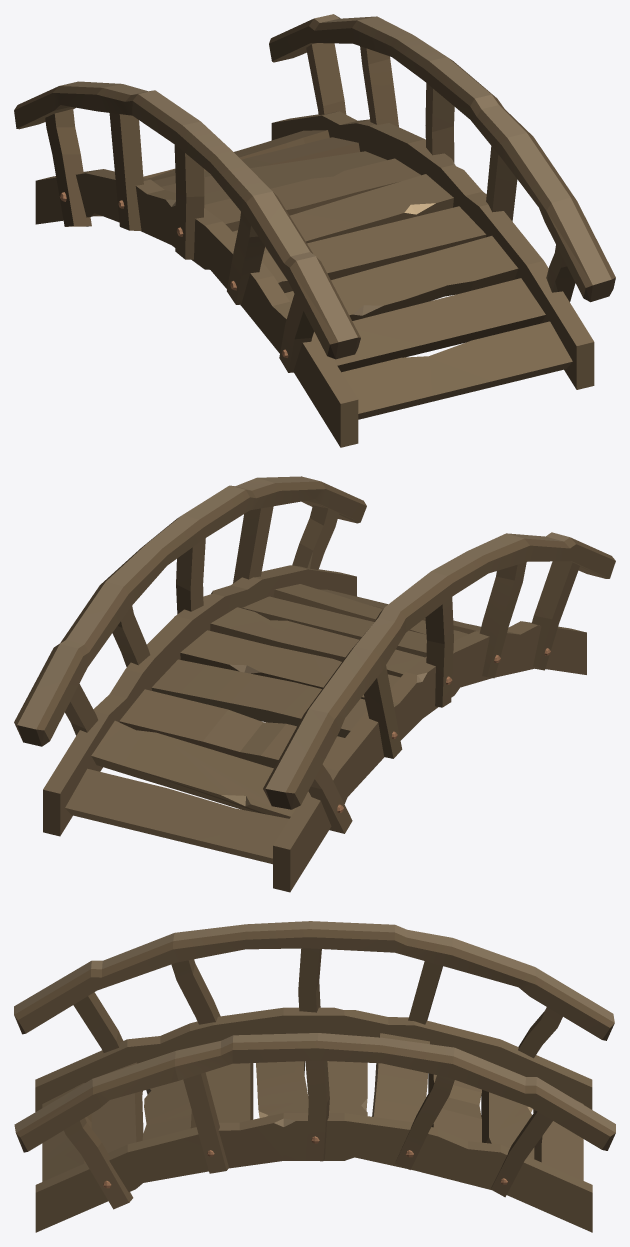
The model's file is SM_Env_Bridge_01.fbx.
3 views of the same model, one above another, from view 1: azimuth 30°, elevation 25°; view 2: azimuth 150°, elevation 25°; view 3: azimuth 270°, elevation 25° (orthographic). The views are drawn at different scales.
Parts seen in each view (by area): view 1: SM_Env_Bridge_01; view 2: SM_Env_Bridge_01; view 3: SM_Env_Bridge_01.
Boxes of the visible parts, left/top/right/bottom form: SM_Env_Bridge_01: left=14, top=14, right=615, bottom=447; SM_Env_Bridge_01: left=14, top=476, right=615, bottom=892; SM_Env_Bridge_01: left=14, top=921, right=615, bottom=1232.
Bounding box in the file's own units: 0.0306 × 0.0213 × 0.0594.
Materials: 1 (1 with a texture image).
